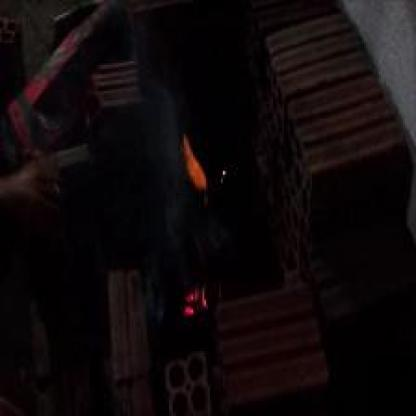fire: (163, 117, 220, 206)
